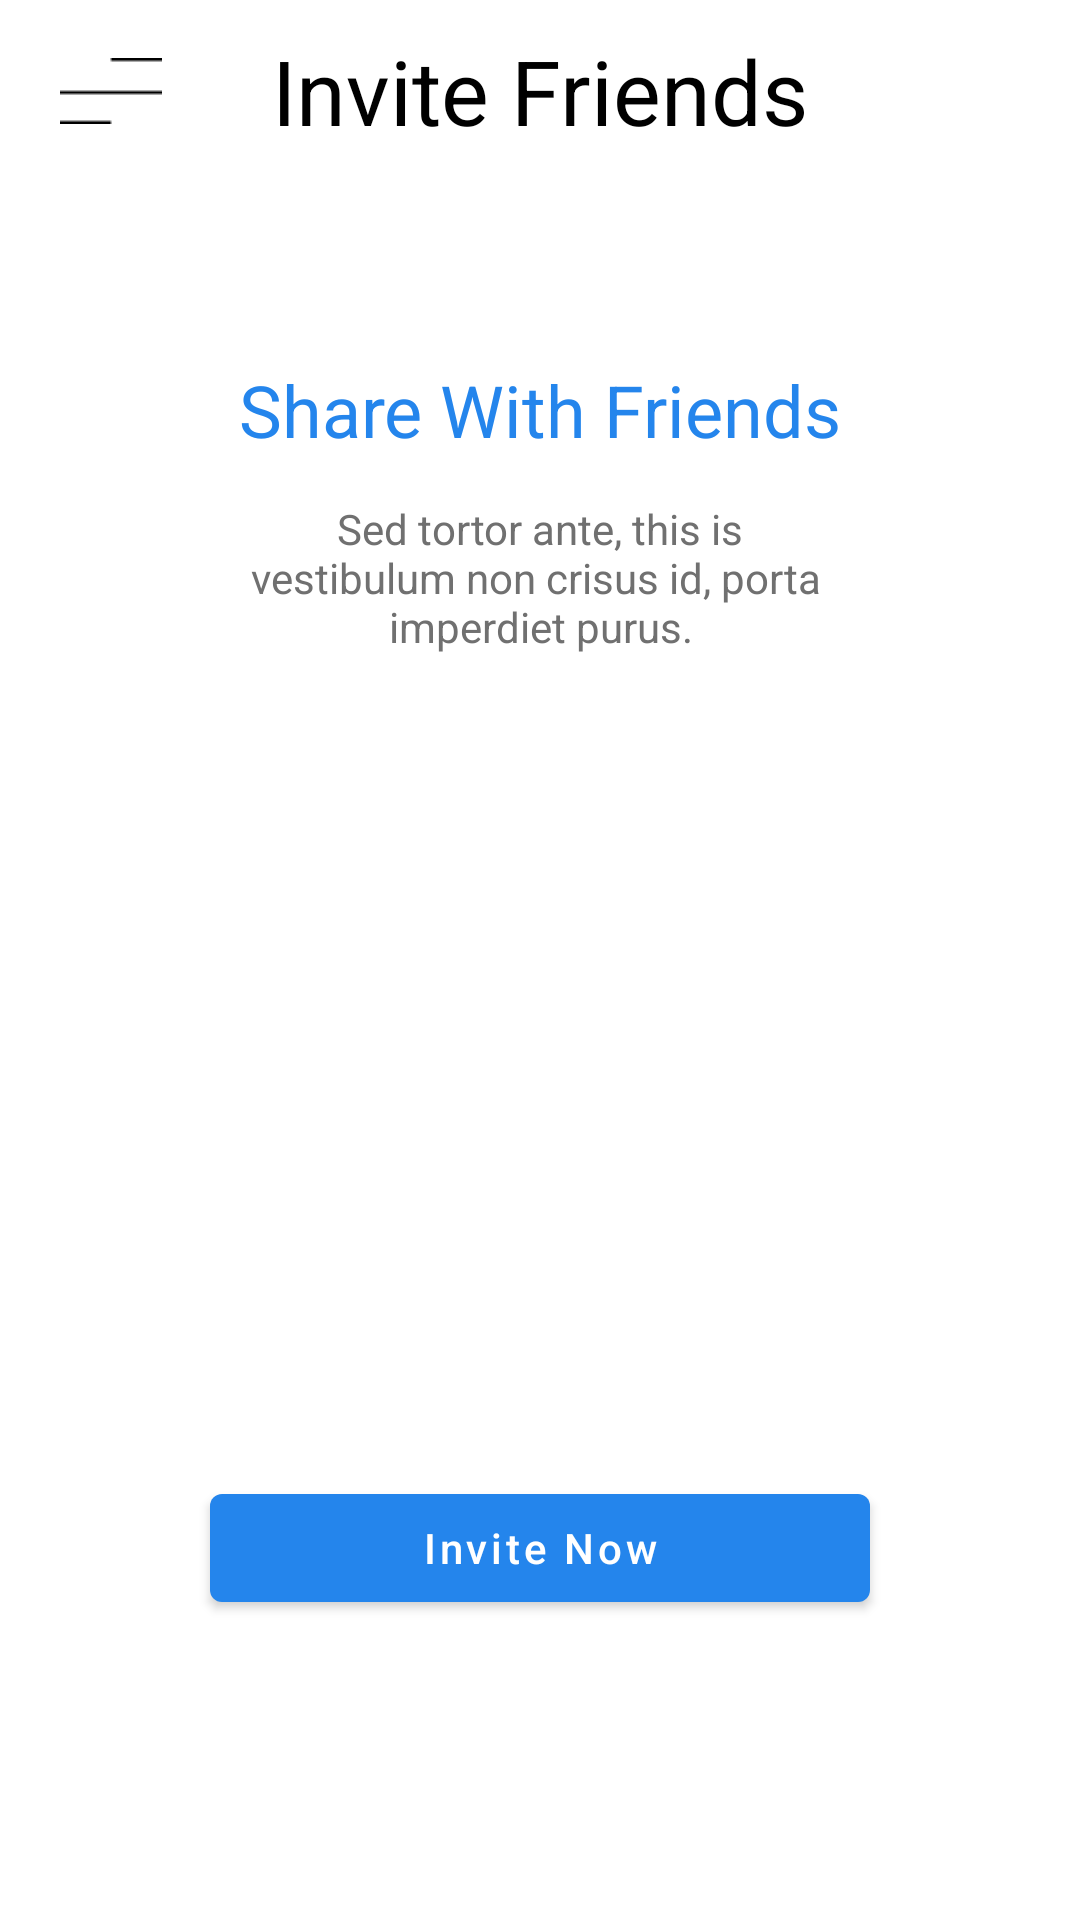

Icon click points for this 1080px x 1920px phone screenshot, format (x=x, y=y):
lines menu: (x=111, y=91)
